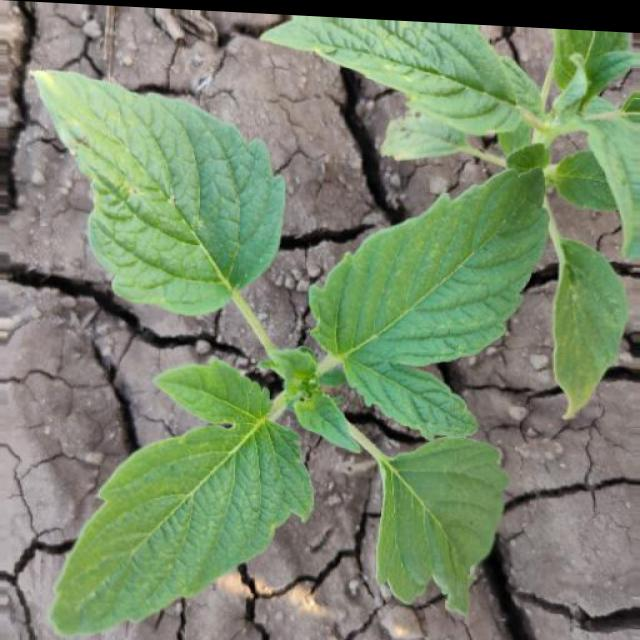crop: (28, 49, 632, 640), (240, 15, 640, 407)
